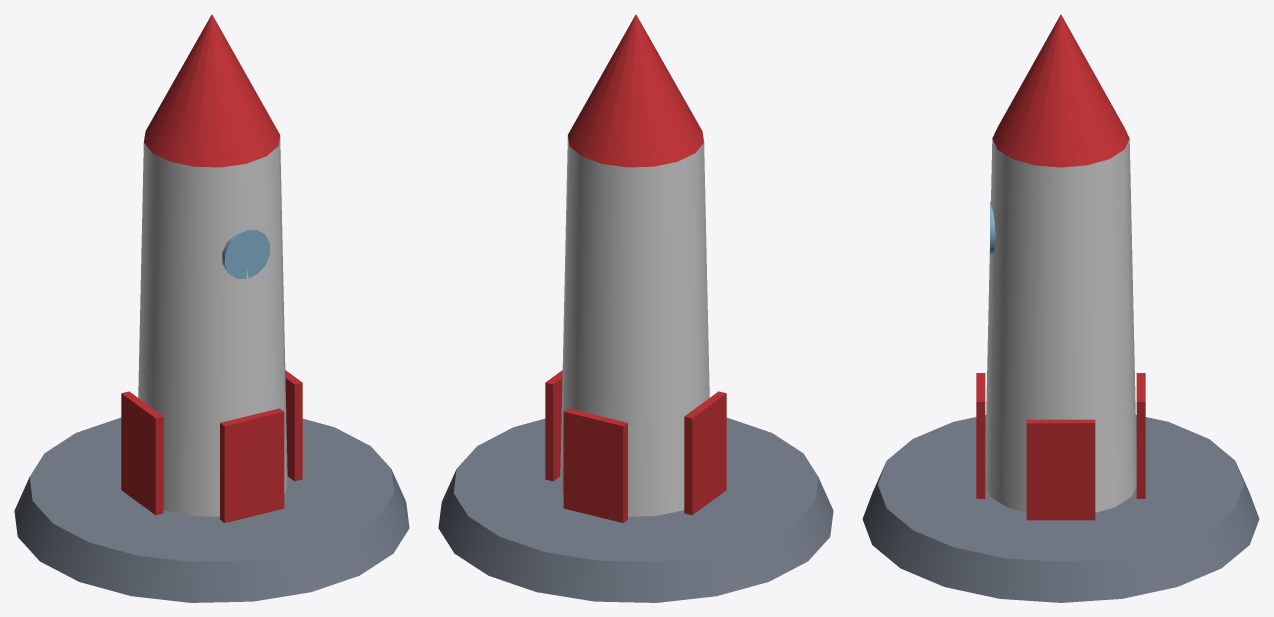
Rendered from landmark_rocket.glb.
The picture shows the model from 3 angles, left to right: view 1: azimuth 30°, elevation 25°; view 2: azimuth 150°, elevation 25°; view 3: azimuth 270°, elevation 25°; orthographic projection.
Visible parts, largest first — view 1: Landmark_rocket; view 2: Landmark_rocket; view 3: Landmark_rocket.
Boxes of the visible parts, x1,y1,x2,y2 form: Landmark_rocket: (14, 14, 409, 602); Landmark_rocket: (438, 14, 833, 602); Landmark_rocket: (862, 14, 1259, 602).
Size of the model in its own units: 5.2 by 7.3 by 5.2.
